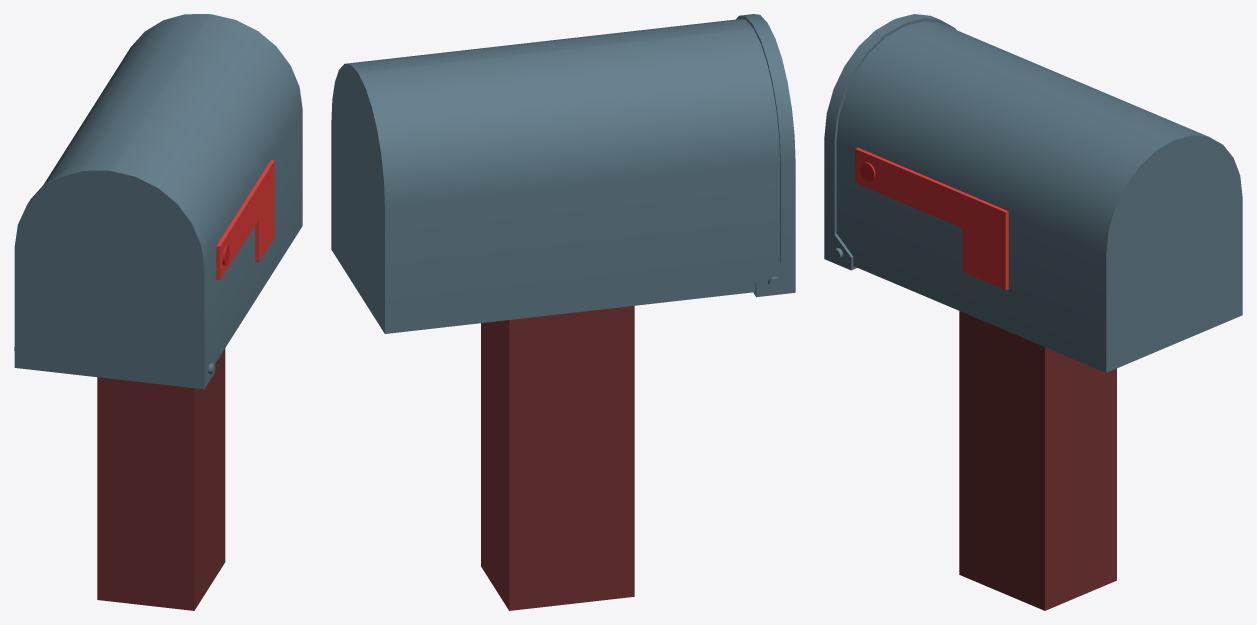
Rendered from closed_mailbox_with_lowered_flag.glb.
3 renders of one model, left to right at view 1: azimuth 30°, elevation 25°; view 2: azimuth 150°, elevation 25°; view 3: azimuth 270°, elevation 25°, orthographic. The views are drawn at different scales.
Visible parts, largest first — view 1: Cube.971; view 2: Cube.971; view 3: Cube.971.
Part boxes in pixels (x1,y1,x2,y2): Cube.971: (14, 14, 302, 610); Cube.971: (331, 14, 795, 610); Cube.971: (824, 14, 1242, 610).
Size of the model in its own units: 1.46 by 1.92 by 1.46.
1 material, 1 textured.
